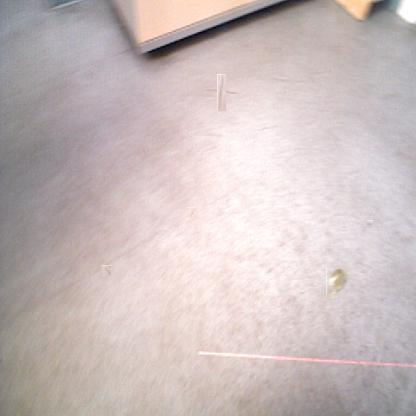dirty: (326, 267, 347, 295)
mark: (210, 81, 233, 104), (269, 77, 291, 83), (101, 265, 112, 276), (187, 208, 196, 218), (365, 220, 373, 227)
